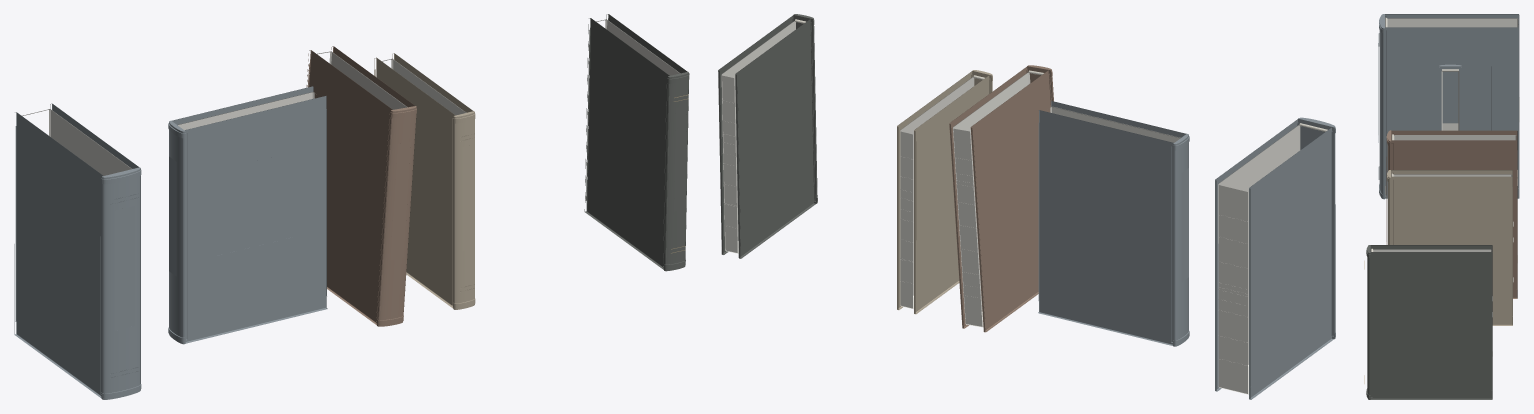
Rendered from X14_LRS1953_BOOKS_S00_bk1.glb.
The picture shows the model from 3 angles, left to right: view 1: azimuth 30°, elevation 25°; view 2: azimuth 150°, elevation 25°; view 3: azimuth 270°, elevation 25°; orthographic projection. The views are drawn at different scales.
Parts seen in each view (by area): view 1: S07_OVERFLOW_MIXED_A_S07_OVERFLOW_MIXED_B08_book_01_cover_1, S07_OVERFLOW_MIXED_A_S07_OVERFLOW_MIXED_B05_book_05_cover_-1, S07_OVERFLOW_MIXED_A_S07_OVERFLOW_MIXED_B17_book_03_cover_-1, S07_OVERFLOW_MIXED_A_S07_OVERFLOW_MIXED_B09_book_01_cover_-1, S07_OVERFLOW_MIXED_A_S07_OVERFLOW_MIXED_B11_book_03_cover_-1, S07_OVERFLOW_MIXED_A_S07_OVERFLOW_MIXED_B08_book_01_TITLE_SU (×2), S07_OVERFLOW_MIXED_A_S07_OVERFLOW_MIXED_B05_book_05_spine, S07_OVERFLOW_MIXED_A_S07_OVERFLOW_MIXED_B09_book_01_spine, S07_OVERFLOW_MIXED_A_S07_OVERFLOW_MIXED_B11_book_03_spine, S07_OVERFLOW_MIXED_A_S07_OVERFLOW_MIXED_B17_book_03_spine, S07_OVERFLOW_MIXED_A_S07_OVERFLOW_MIXED_B08_book_01_spine, S07_OVERFLOW_MIXED_A_S07_OVERFLOW_MIXED_B05_book_05_TITLE_SU (+13 smaller); view 2: S07_OVERFLOW_MIXED_A_S07_OVERFLOW_MIXED_B08_book_01_cover_-1, S07_OVERFLOW_MIXED_A_S07_OVERFLOW_MIXED_B05_book_05_cover_-1, S07_OVERFLOW_MIXED_A_S07_OVERFLOW_MIXED_B17_book_03_cover_-1, S07_OVERFLOW_MIXED_A_S07_OVERFLOW_MIXED_B09_book_01_cover_-1, S07_OVERFLOW_MIXED_A_S07_OVERFLOW_MIXED_B11_book_03_cover_-1, S07_OVERFLOW_MIXED_A_S07_OVERFLOW_MIXED_B05_book_05_pages, S07_OVERFLOW_MIXED_A_S07_OVERFLOW_MIXED_B09_book_01_pages, S07_OVERFLOW_MIXED_A_S07_OVERFLOW_MIXED_B17_book_03_pages, S07_OVERFLOW_MIXED_A_S07_OVERFLOW_MIXED_B11_book_03_pages, S07_OVERFLOW_MIXED_A_S07_OVERFLOW_MIXED_B08_book_01_spine, S07_OVERFLOW_MIXED_A_S07_OVERFLOW_MIXED_B05_book_05_cover_1, S07_OVERFLOW_MIXED_A_S07_OVERFLOW_MIXED_B09_book_01_cover_1 (+8 smaller); view 3: S07_OVERFLOW_MIXED_A_S07_OVERFLOW_MIXED_B17_book_03_cover_1, S07_OVERFLOW_MIXED_A_S07_OVERFLOW_MIXED_B05_book_05_cover_1, S07_OVERFLOW_MIXED_A_S07_OVERFLOW_MIXED_B11_book_03_cover_1, S07_OVERFLOW_MIXED_A_S07_OVERFLOW_MIXED_B17_book_03_TITLE_SU, S07_OVERFLOW_MIXED_A_S07_OVERFLOW_MIXED_B09_book_01_cover_1, S07_OVERFLOW_MIXED_A_S07_OVERFLOW_MIXED_B05_book_05_TITLE_SU, S07_OVERFLOW_MIXED_A_S07_OVERFLOW_MIXED_B11_book_03_TITLE_SU, S07_OVERFLOW_MIXED_A_S07_OVERFLOW_MIXED_B08_book_01_spine, S07_OVERFLOW_MIXED_A_S07_OVERFLOW_MIXED_B05_book_05_pages, S07_OVERFLOW_MIXED_A_S07_OVERFLOW_MIXED_B05_book_05_spine, S07_OVERFLOW_MIXED_A_S07_OVERFLOW_MIXED_B09_book_01_pages, S07_OVERFLOW_MIXED_A_S07_OVERFLOW_MIXED_B05_book_05_cover_-1 (+14 smaller).
Boxes of the visible parts, bbox=[...] form: S07_OVERFLOW_MIXED_A_S07_OVERFLOW_MIXED_B08_book_01_cover_1: bbox=[185, 96, 327, 343]; S07_OVERFLOW_MIXED_A_S07_OVERFLOW_MIXED_B05_book_05_cover_-1: bbox=[14, 112, 103, 398]; S07_OVERFLOW_MIXED_A_S07_OVERFLOW_MIXED_B17_book_03_cover_-1: bbox=[584, 18, 669, 269]; S07_OVERFLOW_MIXED_A_S07_OVERFLOW_MIXED_B09_book_01_cover_-1: bbox=[306, 50, 392, 325]; S07_OVERFLOW_MIXED_A_S07_OVERFLOW_MIXED_B11_book_03_cover_-1: bbox=[374, 57, 455, 308]; S07_OVERFLOW_MIXED_A_S07_OVERFLOW_MIXED_B08_book_01_TITLE_SU (×2): bbox=[169, 151, 298, 276]; S07_OVERFLOW_MIXED_A_S07_OVERFLOW_MIXED_B05_book_05_spine: bbox=[101, 167, 140, 399]; S07_OVERFLOW_MIXED_A_S07_OVERFLOW_MIXED_B09_book_01_spine: bbox=[377, 106, 416, 326]; S07_OVERFLOW_MIXED_A_S07_OVERFLOW_MIXED_B11_book_03_spine: bbox=[453, 111, 474, 309]; S07_OVERFLOW_MIXED_A_S07_OVERFLOW_MIXED_B17_book_03_spine: bbox=[664, 72, 688, 271]; S07_OVERFLOW_MIXED_A_S07_OVERFLOW_MIXED_B08_book_01_spine: bbox=[169, 120, 185, 344]; S07_OVERFLOW_MIXED_A_S07_OVERFLOW_MIXED_B05_book_05_TITLE_SU: bbox=[114, 206, 134, 330]; S07_OVERFLOW_MIXED_A_S07_OVERFLOW_MIXED_B08_book_01_cover_-1: bbox=[1038, 110, 1173, 345]; S07_OVERFLOW_MIXED_A_S07_OVERFLOW_MIXED_B05_book_05_cover_-1: bbox=[1249, 127, 1335, 399]; S07_OVERFLOW_MIXED_A_S07_OVERFLOW_MIXED_B17_book_03_cover_-1: bbox=[735, 19, 817, 258]; S07_OVERFLOW_MIXED_A_S07_OVERFLOW_MIXED_B09_book_01_cover_-1: bbox=[970, 70, 1053, 332]; S07_OVERFLOW_MIXED_A_S07_OVERFLOW_MIXED_B11_book_03_cover_-1: bbox=[914, 75, 989, 314]; S07_OVERFLOW_MIXED_A_S07_OVERFLOW_MIXED_B05_book_05_pages: bbox=[1218, 124, 1326, 394]; S07_OVERFLOW_MIXED_A_S07_OVERFLOW_MIXED_B09_book_01_pages: bbox=[953, 72, 1042, 327]; S07_OVERFLOW_MIXED_A_S07_OVERFLOW_MIXED_B17_book_03_pages: bbox=[721, 21, 803, 253]; S07_OVERFLOW_MIXED_A_S07_OVERFLOW_MIXED_B11_book_03_pages: bbox=[900, 76, 983, 309]; S07_OVERFLOW_MIXED_A_S07_OVERFLOW_MIXED_B08_book_01_spine: bbox=[1173, 134, 1188, 346]; S07_OVERFLOW_MIXED_A_S07_OVERFLOW_MIXED_B05_book_05_cover_1: bbox=[1215, 119, 1297, 391]; S07_OVERFLOW_MIXED_A_S07_OVERFLOW_MIXED_B09_book_01_cover_1: bbox=[949, 67, 1027, 328]; S07_OVERFLOW_MIXED_A_S07_OVERFLOW_MIXED_B17_book_03_cover_1: bbox=[1370, 252, 1492, 399]; S07_OVERFLOW_MIXED_A_S07_OVERFLOW_MIXED_B05_book_05_cover_1: bbox=[1385, 27, 1519, 198]; S07_OVERFLOW_MIXED_A_S07_OVERFLOW_MIXED_B11_book_03_cover_1: bbox=[1391, 176, 1512, 325]; S07_OVERFLOW_MIXED_A_S07_OVERFLOW_MIXED_B17_book_03_TITLE_SU: bbox=[1390, 285, 1467, 344]; S07_OVERFLOW_MIXED_A_S07_OVERFLOW_MIXED_B09_book_01_cover_1: bbox=[1391, 140, 1517, 298]; S07_OVERFLOW_MIXED_A_S07_OVERFLOW_MIXED_B05_book_05_TITLE_SU: bbox=[1407, 66, 1491, 130]; S07_OVERFLOW_MIXED_A_S07_OVERFLOW_MIXED_B11_book_03_TITLE_SU: bbox=[1410, 210, 1487, 244]; S07_OVERFLOW_MIXED_A_S07_OVERFLOW_MIXED_B08_book_01_spine: bbox=[1439, 64, 1461, 130]; S07_OVERFLOW_MIXED_A_S07_OVERFLOW_MIXED_B05_book_05_pages: bbox=[1387, 18, 1518, 27]; S07_OVERFLOW_MIXED_A_S07_OVERFLOW_MIXED_B05_book_05_spine: bbox=[1379, 14, 1384, 199]; S07_OVERFLOW_MIXED_A_S07_OVERFLOW_MIXED_B09_book_01_pages: bbox=[1394, 135, 1516, 140]; S07_OVERFLOW_MIXED_A_S07_OVERFLOW_MIXED_B05_book_05_cover_-1: bbox=[1385, 14, 1519, 27].
Size of the model in its own units: 0.6201 by 0.228 by 0.1878.
